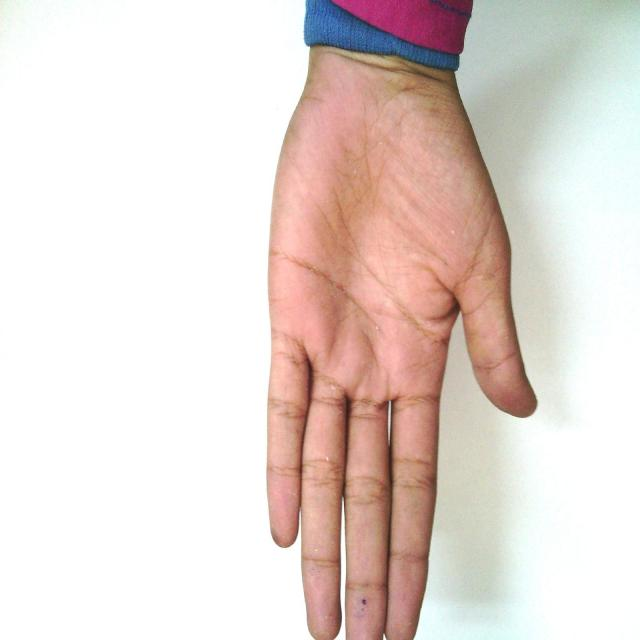others: (196, 0, 583, 640)
